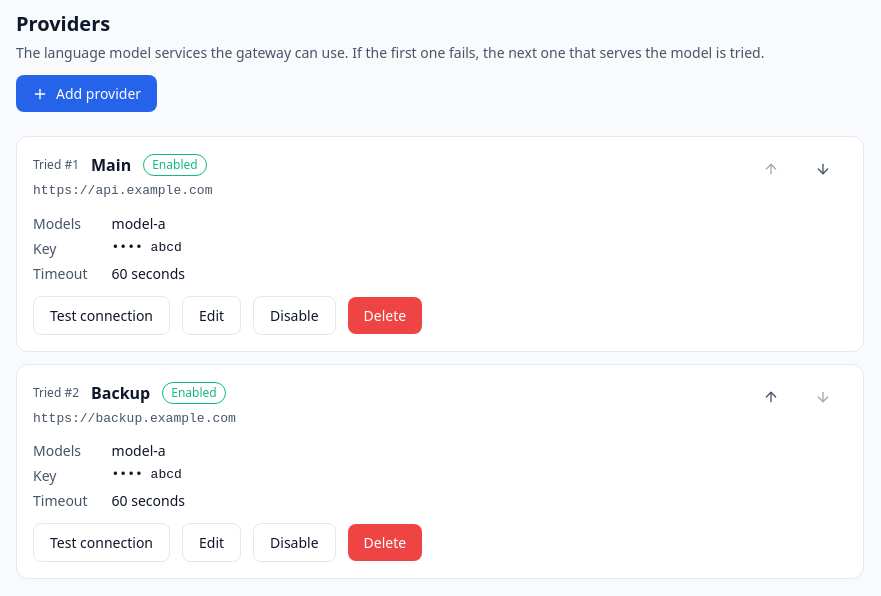
Test case: ProvidersPage › shows the result of a connection test
Click the button "Test connection" below "Main". click: x=102, y=315
box: left=33, top=296, right=170, bottom=334
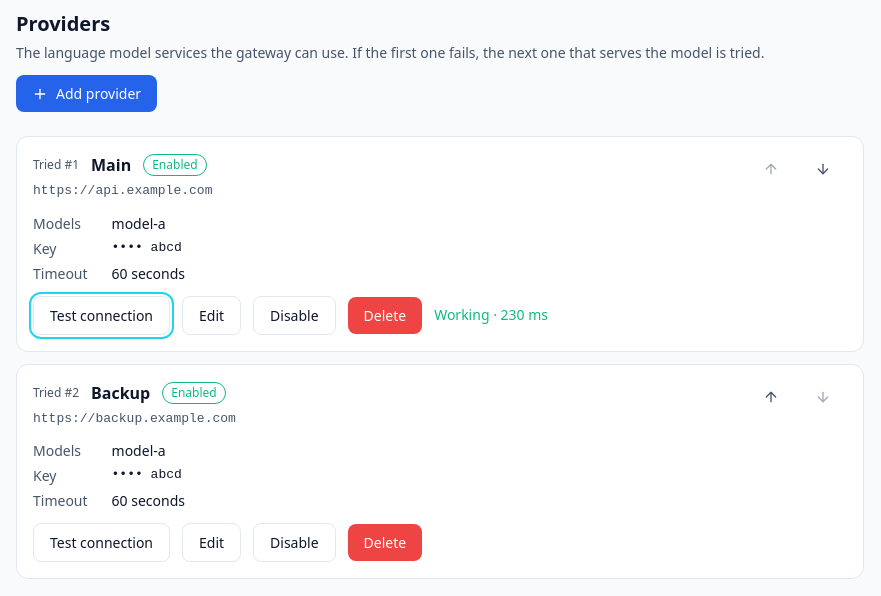
Expected: the text "Working · 230 ms" is shown, left=434, top=305, right=548, bottom=324
